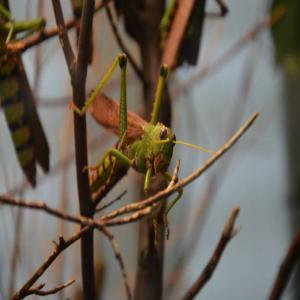locust: (79, 48, 220, 203)
